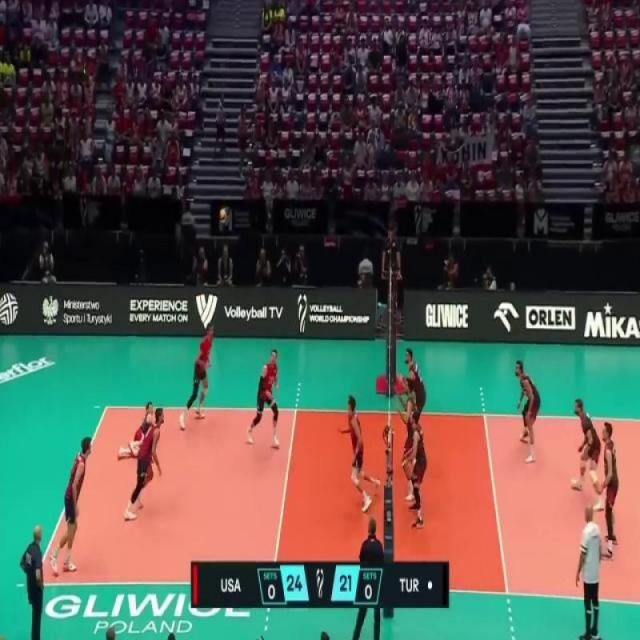volleyball: (218, 208, 228, 225)
